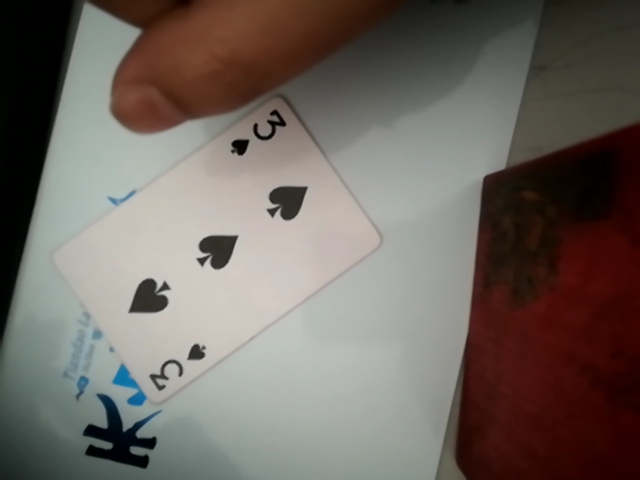ht 3: (74, 88, 382, 392)
